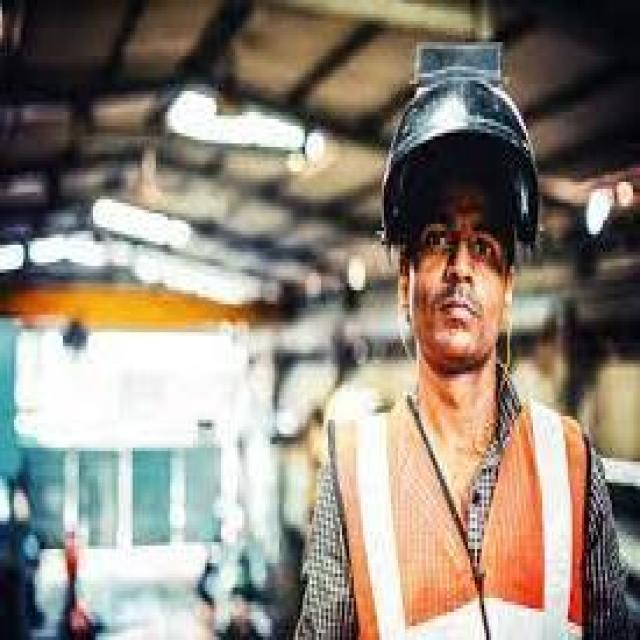Reflective-Jacket: (319, 367, 596, 640)
Safety-Helmet: (372, 63, 558, 252)
